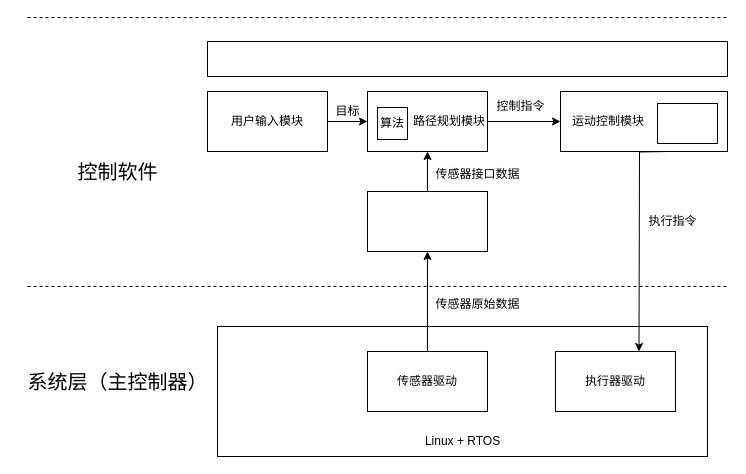
Some shapes in this 746 by 474 pixel diagram are drawn without their labels. Each missing label, with the centre of its shape:
传感器模块: (x=427, y=221)
日志模块: (x=467, y=58)
状态机: (x=687, y=123)
